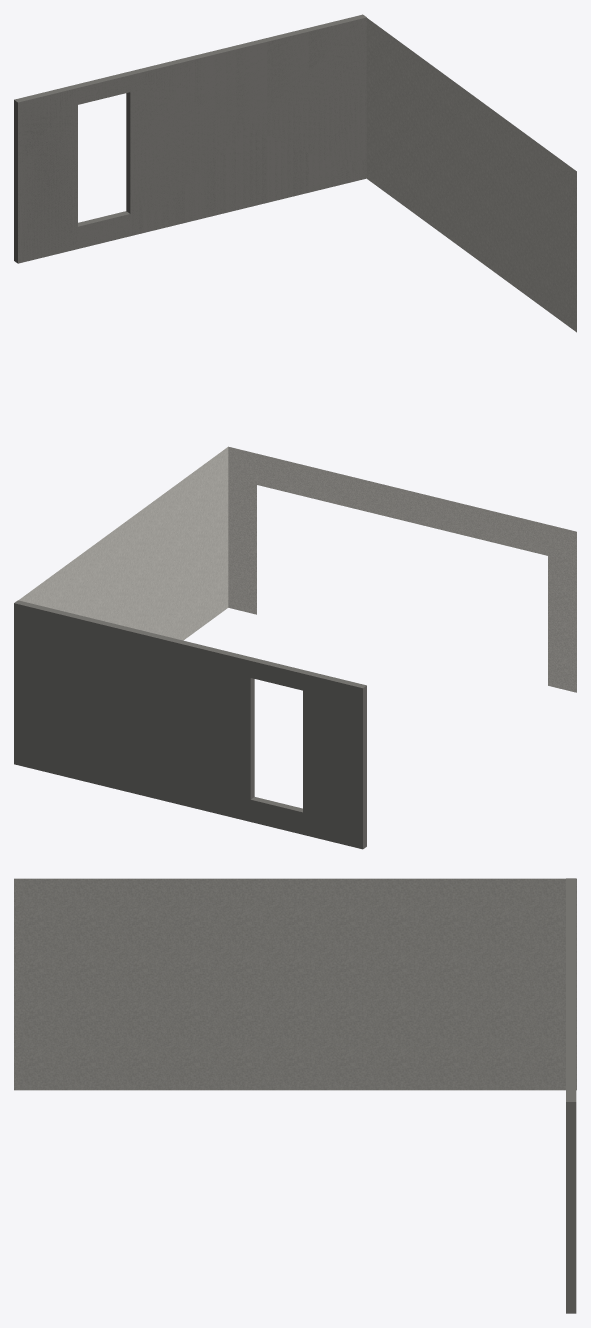
Rendered from garage_wall_wash.glb.
3 renders of one model, top to bottom at view 1: azimuth 30°, elevation 25°; view 2: azimuth 150°, elevation 25°; view 3: azimuth 270°, elevation 25°, orthographic. The views are drawn at different scales.
Visible parts, largest first — view 1: root; view 2: root; view 3: root.
Part boxes in pixels (x1,y1,x2,y2): root: (14, 14, 576, 332); root: (14, 446, 576, 849); root: (14, 878, 576, 1313).
Size of the model in its own units: 6.22 by 2.74 by 6.61.
5 materials, 4 textured.
